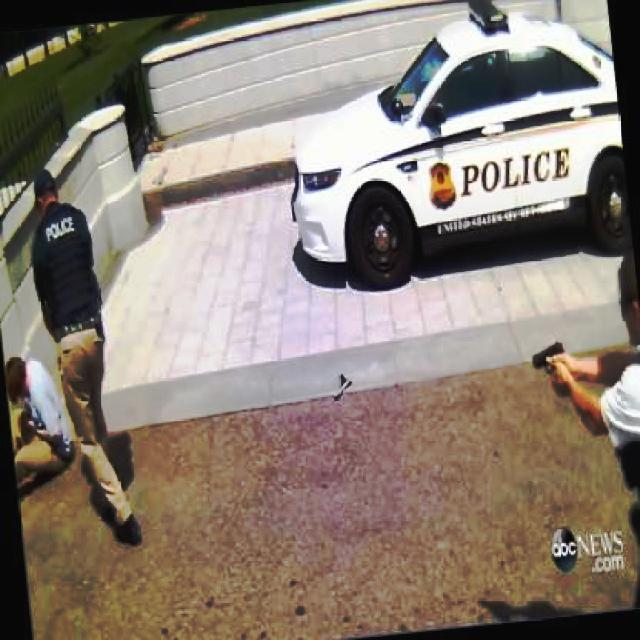Gun: (519, 329, 576, 382)
